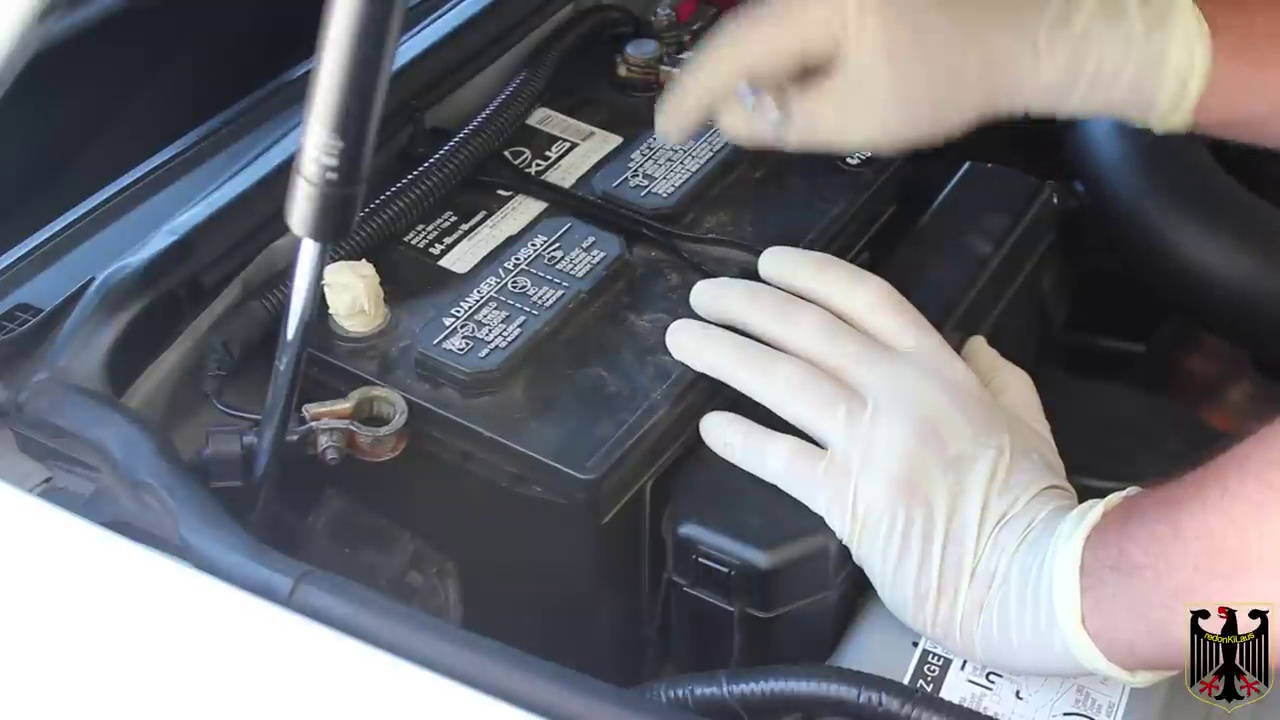battery: (266, 30, 907, 476)
